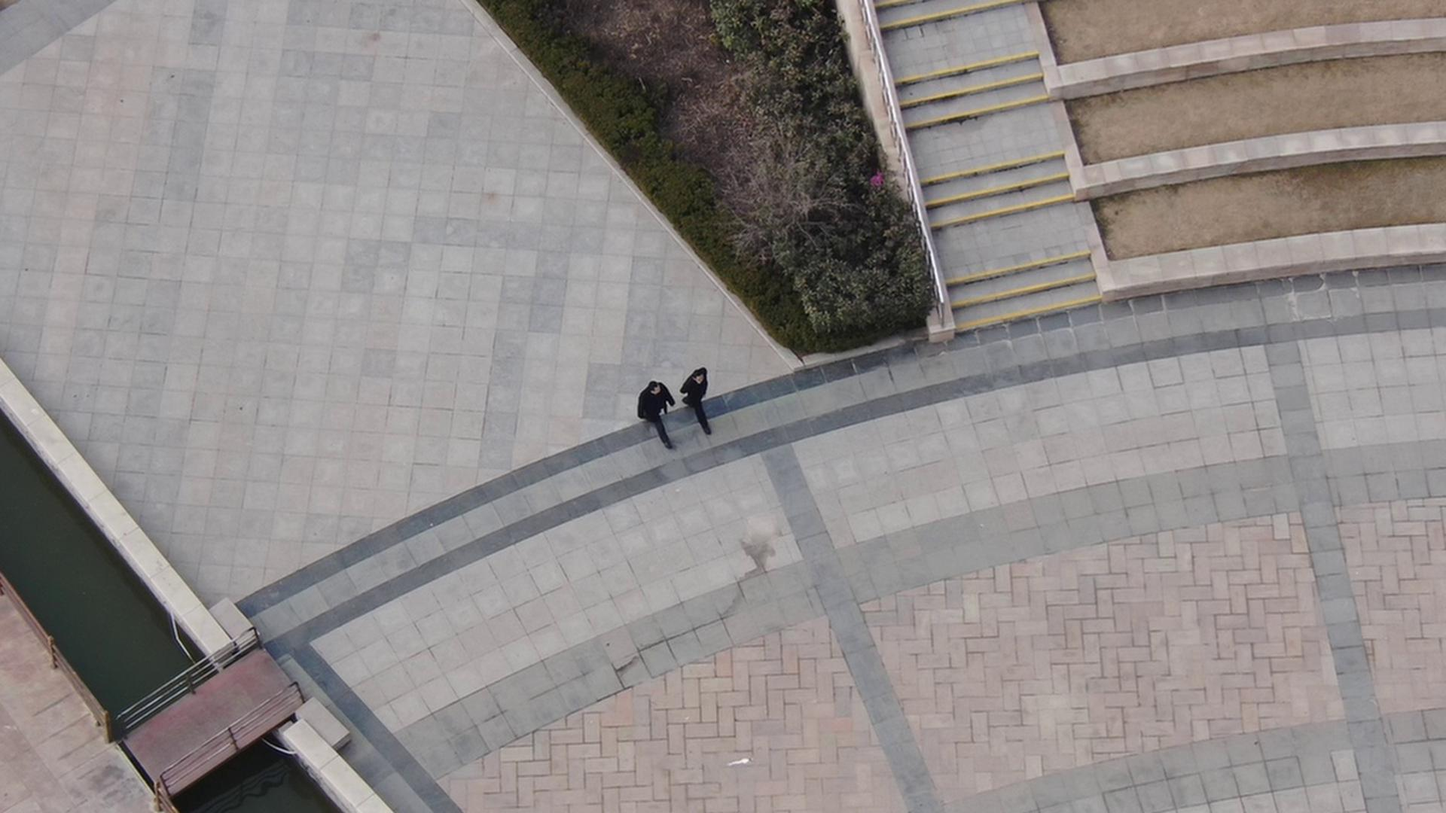human: (632, 371, 682, 439), (678, 349, 715, 422)
